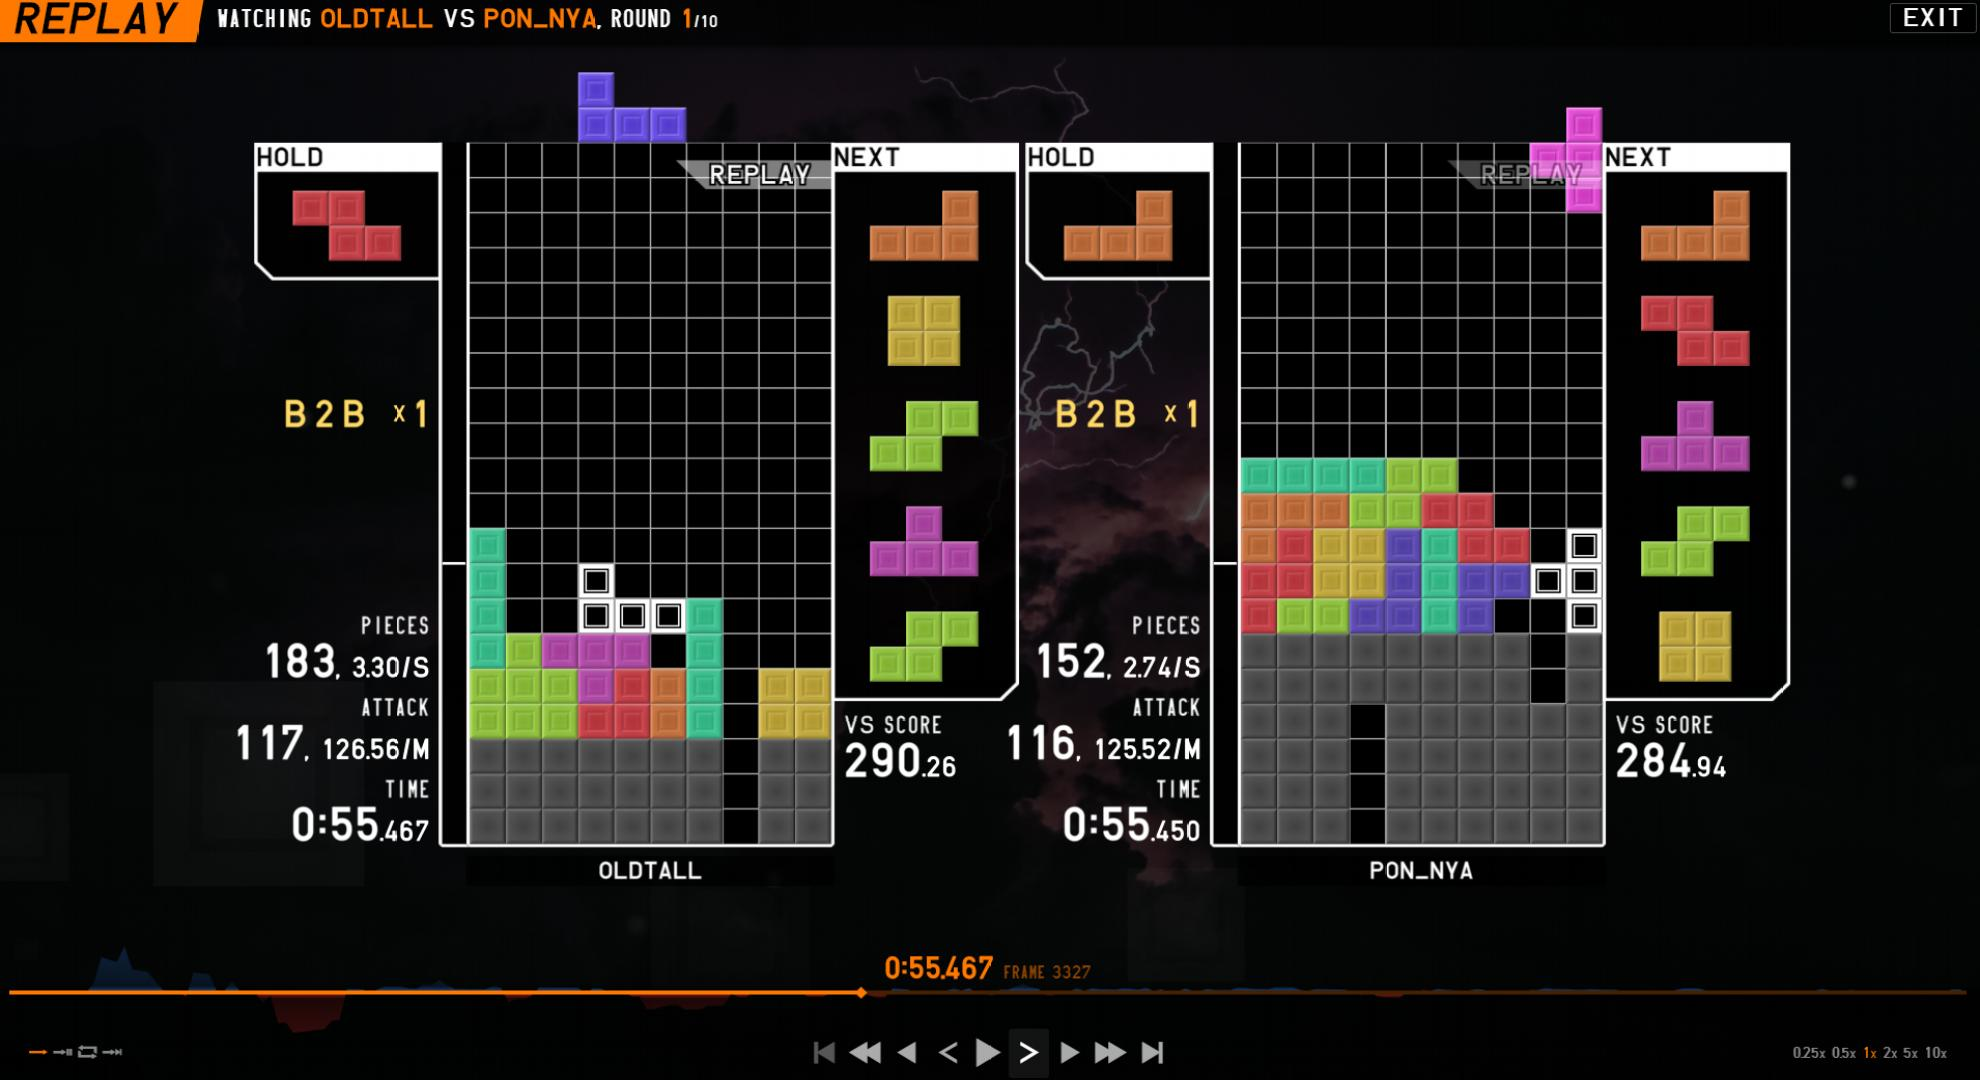tspin: (1495, 556, 1605, 672)
